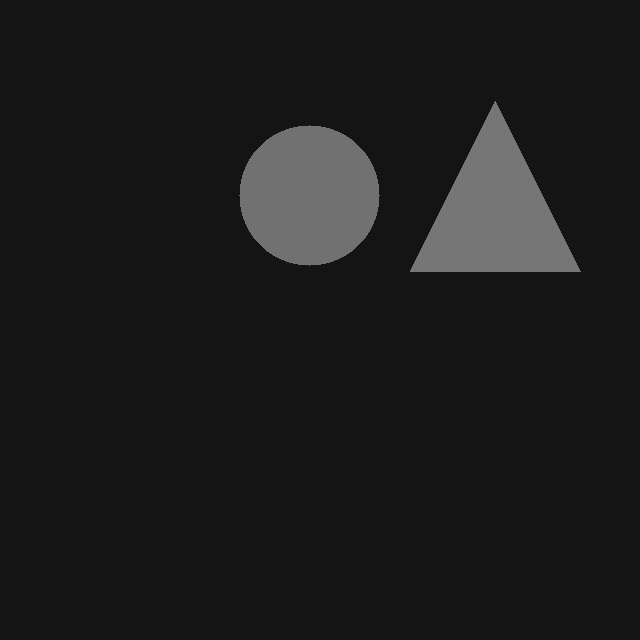circle: (239, 125, 379, 265)
triangle: (410, 101, 580, 271)
